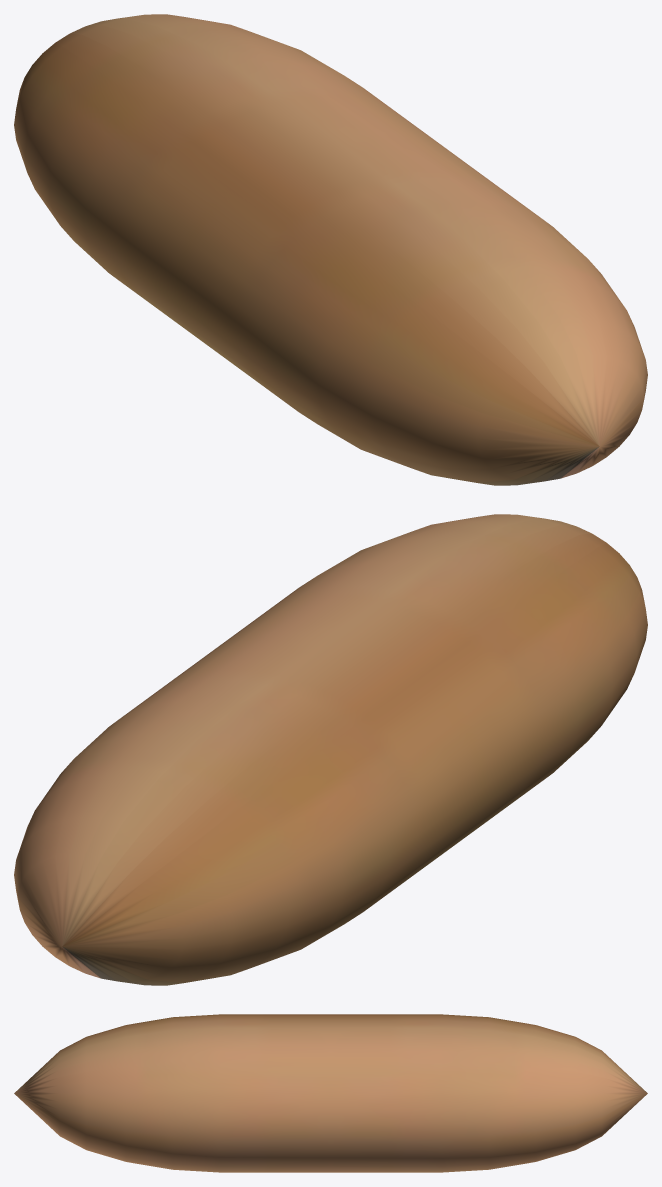
Rendered from biji padi.fbx.
3 views of the same model, one above another, from view 1: azimuth 30°, elevation 25°; view 2: azimuth 150°, elevation 25°; view 3: azimuth 270°, elevation 25° (orthographic). The views are drawn at different scales.
Visible parts, largest first — view 1: Cylinder.048; view 2: Cylinder.048; view 3: Cylinder.048.
Boxes of the visible parts, x1=… form: Cylinder.048: x1=14, y1=14, x2=647, y2=485; Cylinder.048: x1=14, y1=514, x2=647, y2=985; Cylinder.048: x1=14, y1=1014, x2=647, y2=1172.
Bounding box in the file's own units: 8.71 × 6.06 × 26.54.
1 material, 1 textured.
